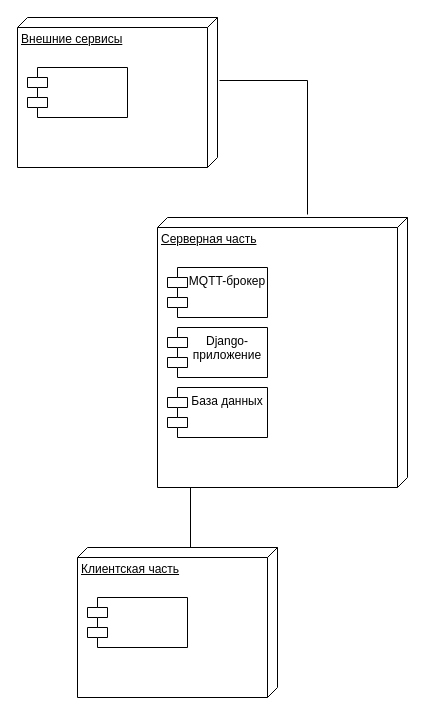
This 425x715 diagram has some shape labels left out. The centre of each missing label's shape, as x and y in pixels:
"RFID-антенна" goes at point (77, 92).
"АРМ диспетчера" goes at point (137, 622).
